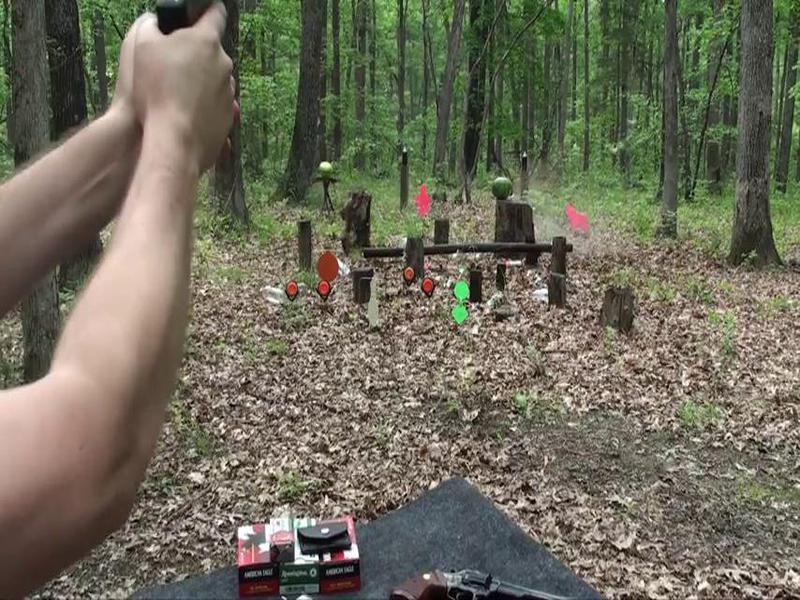Revolver: (400, 544, 587, 600)
